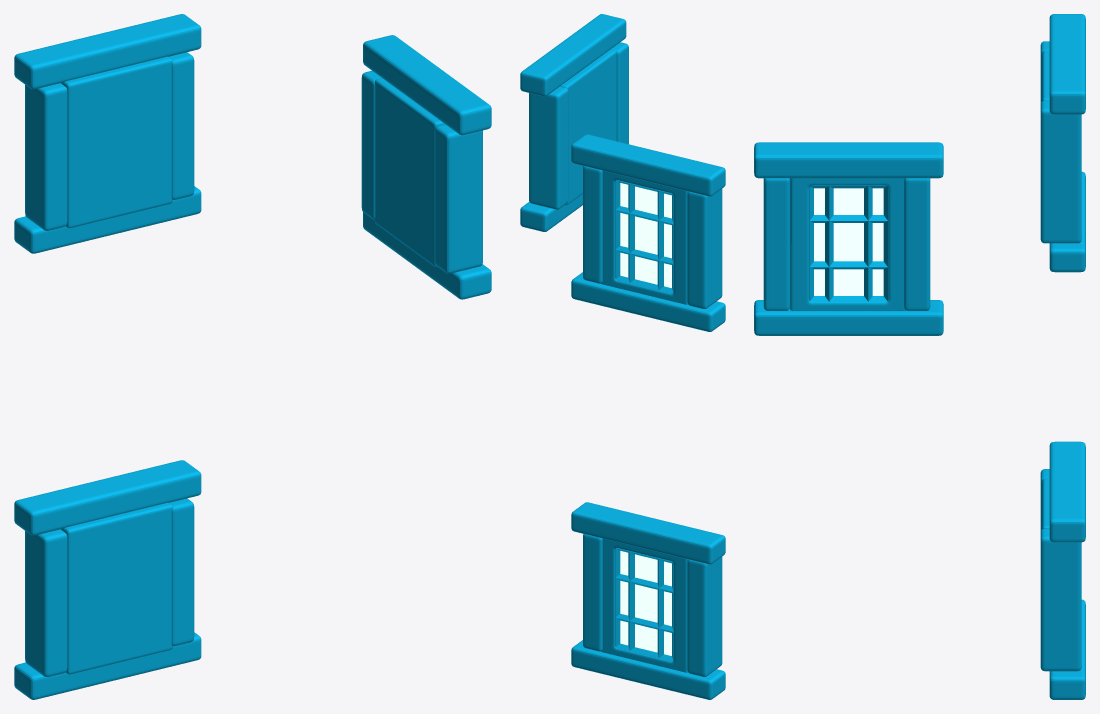
File: SM_Stone_Window_07.fbx
3 views of the same model, side by side, from view 1: azimuth 30°, elevation 25°; view 2: azimuth 150°, elevation 25°; view 3: azimuth 270°, elevation 25° (orthographic). The views are drawn at different scales.
Visible parts, largest first — view 1: SM_Stone_Window_07; view 2: SM_Stone_Window_07; view 3: SM_Stone_Window_07.
Part boxes in pixels (x1,y1,x2,y2): SM_Stone_Window_07: (14,14,491,699); SM_Stone_Window_07: (520,14,725,699); SM_Stone_Window_07: (754,14,1085,699).
Bounding box in the file's own units: 1.8 × 3.55 × 1.75.
